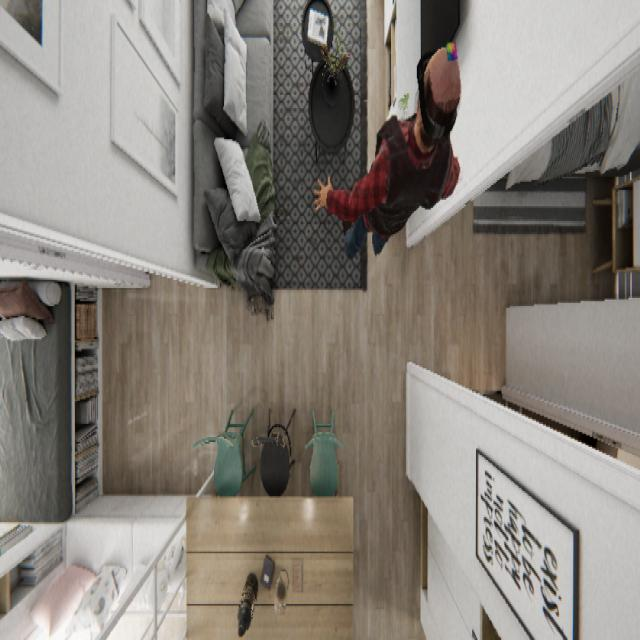Colored-Marker: (445, 38, 458, 62)
Human: (312, 39, 462, 259)
